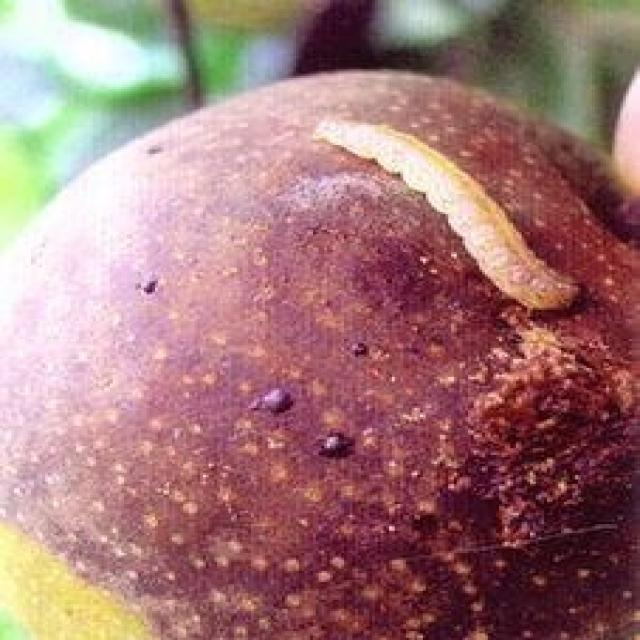peach borer: (316, 111, 584, 319)
